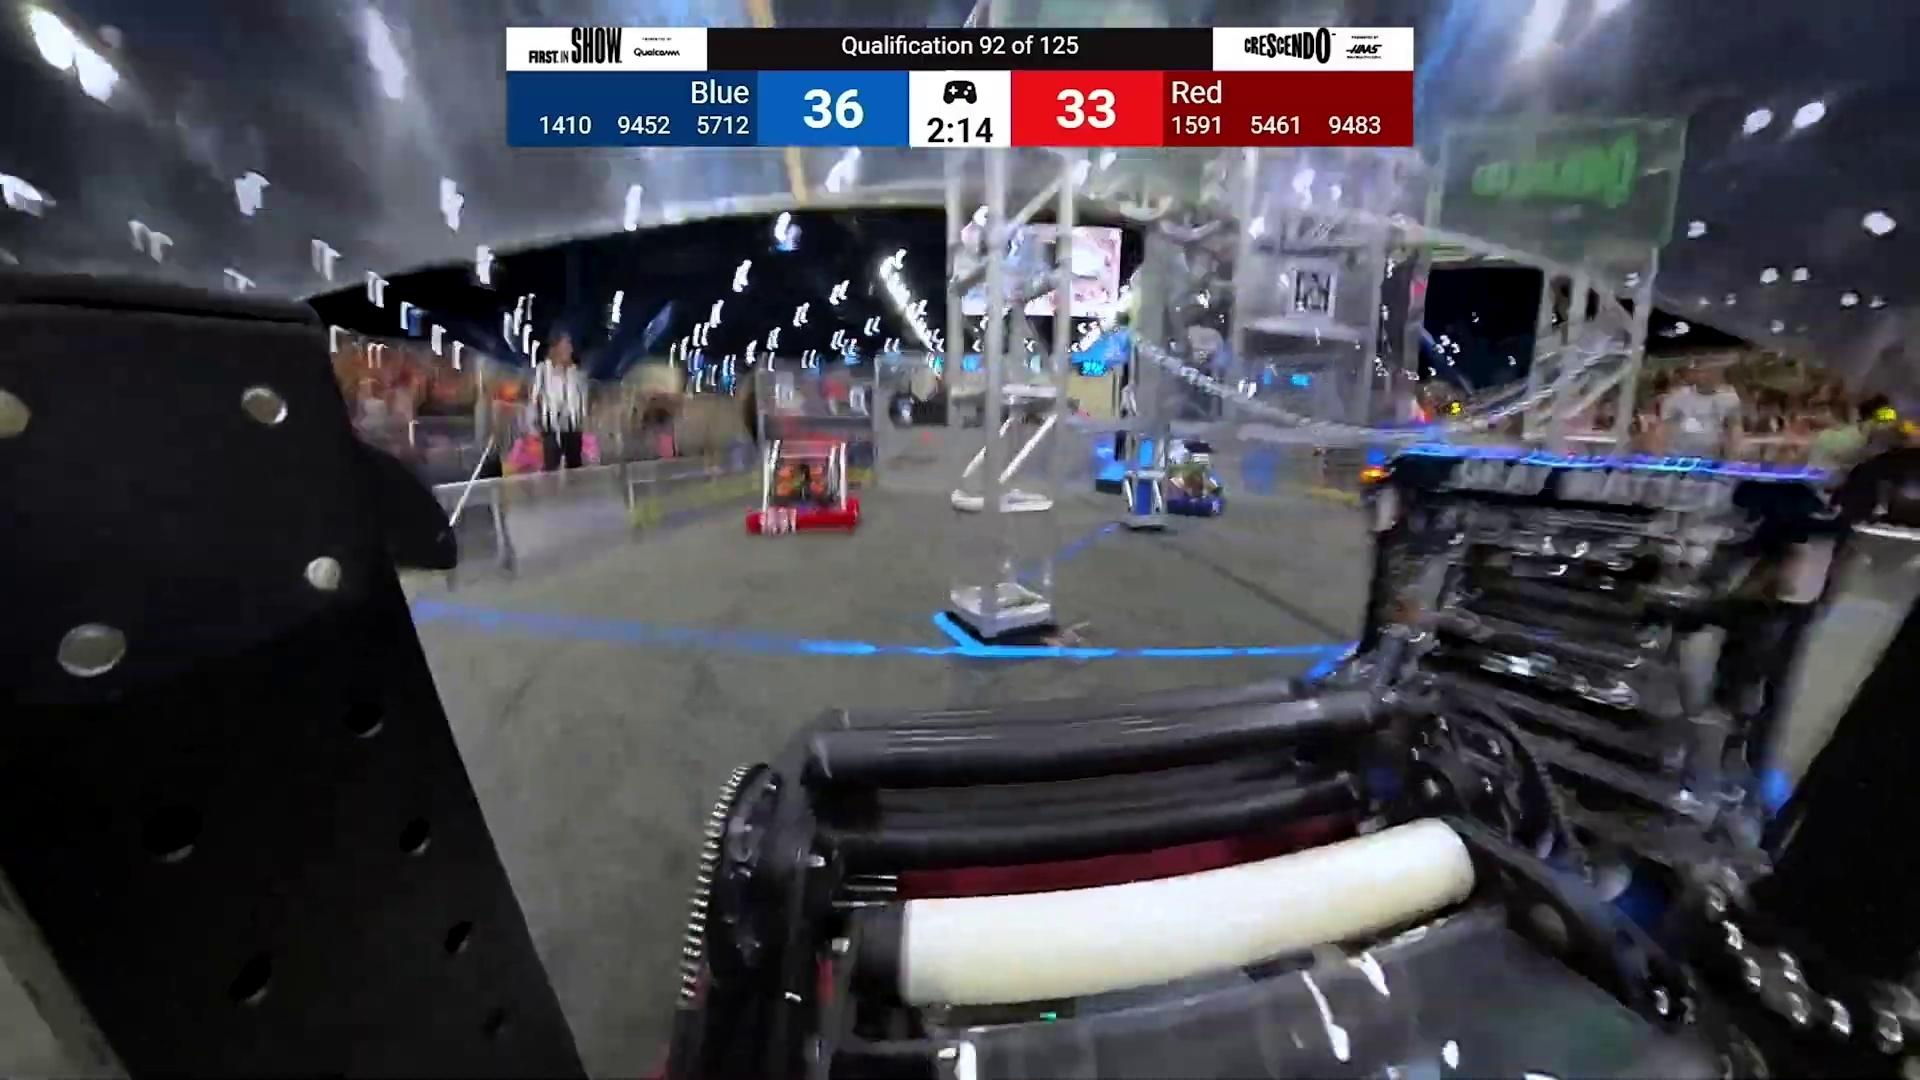robot: (745, 438, 861, 538), (1166, 433, 1222, 517)
